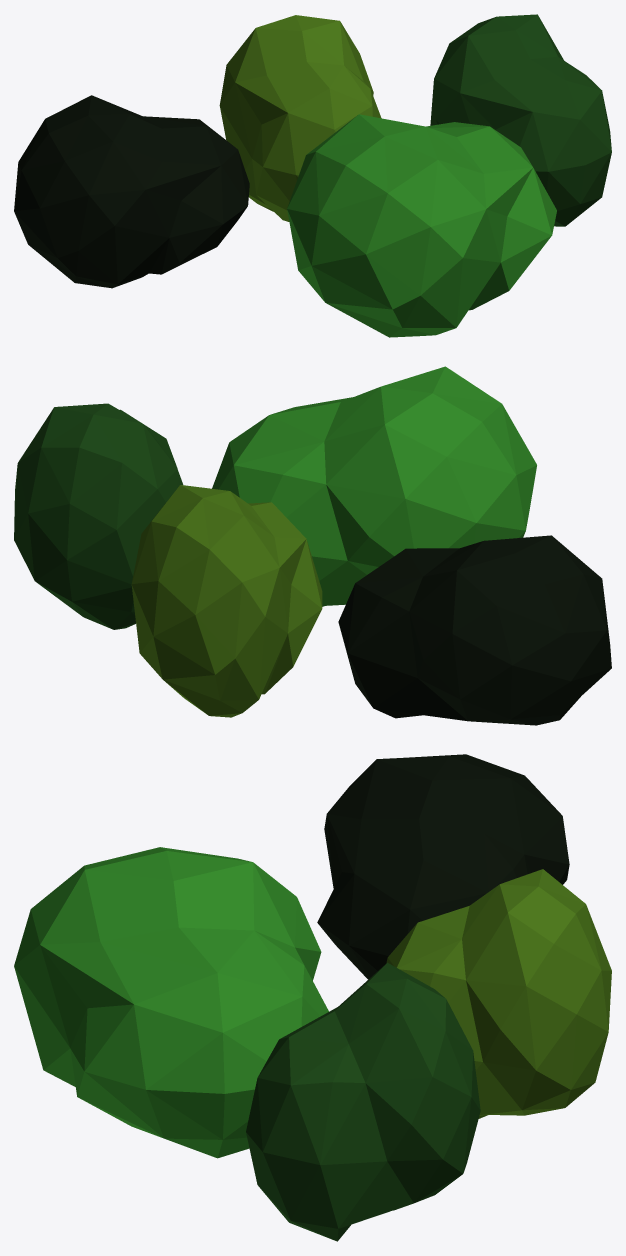
The picture shows the model from 3 angles, top to bottom: view 1: azimuth 30°, elevation 25°; view 2: azimuth 150°, elevation 25°; view 3: azimuth 270°, elevation 25°; orthographic projection. The views are drawn at different scales.
Visible parts, largest first — view 1: GeoSphere028, GeoSphere025, GeoSphere027, GeoSphere026; view 2: GeoSphere028, GeoSphere025, GeoSphere026, GeoSphere027; view 3: GeoSphere028, GeoSphere027, GeoSphere025, GeoSphere026.
Part boxes in pixels (box(x1,y1,x2,y2)): GeoSphere028: box(287, 114, 556, 337); GeoSphere025: box(14, 95, 249, 288); GeoSphere027: box(430, 14, 611, 226); GeoSphere026: box(219, 15, 381, 221); GeoSphere028: box(212, 366, 536, 606); GeoSphere025: box(338, 535, 611, 725); GeoSphere026: box(131, 485, 322, 717); GeoSphere027: box(14, 403, 183, 629); GeoSphere028: box(14, 847, 328, 1158); GeoSphere027: box(246, 962, 480, 1241); GeoSphere025: box(317, 754, 569, 979); GeoSphere026: box(386, 869, 611, 1118).
Size of the model in its own units: 3951 by 1358 by 3011.
